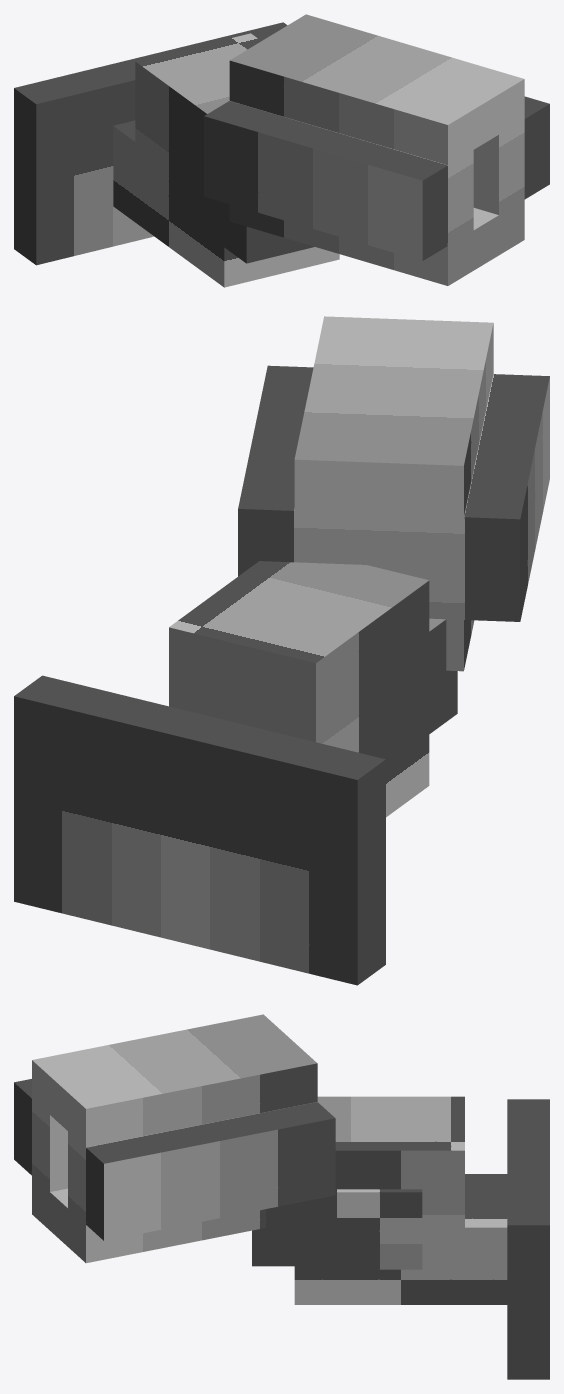
The model's file is security_camera_off.glb.
3 views of the same model, one above another, from view 1: azimuth 30°, elevation 25°; view 2: azimuth 150°, elevation 25°; view 3: azimuth 270°, elevation 25° (orthographic). The views are drawn at different scales.
Parts seen in each view (by area): view 1: Stepped_Camera_Head, Wall_Plate_and_Stepped_Arm; view 2: Wall_Plate_and_Stepped_Arm, Stepped_Camera_Head; view 3: Stepped_Camera_Head, Wall_Plate_and_Stepped_Arm, Service_Panel.
Part boxes in pixels (x1,y1,x2,y2): Stepped_Camera_Head: [204, 14, 549, 285]; Wall_Plate_and_Stepped_Arm: [14, 22, 339, 287]; Wall_Plate_and_Stepped_Arm: [14, 561, 457, 985]; Stepped_Camera_Head: [238, 316, 549, 671]; Stepped_Camera_Head: [14, 1014, 335, 1263]; Wall_Plate_and_Stepped_Arm: [252, 1096, 549, 1379]; Service_Panel: [337, 1189, 422, 1269].
Bounding box in the file's own units: 0.2216 × 0.1969 × 0.354.
Materials: 2 (2 with a texture image).
